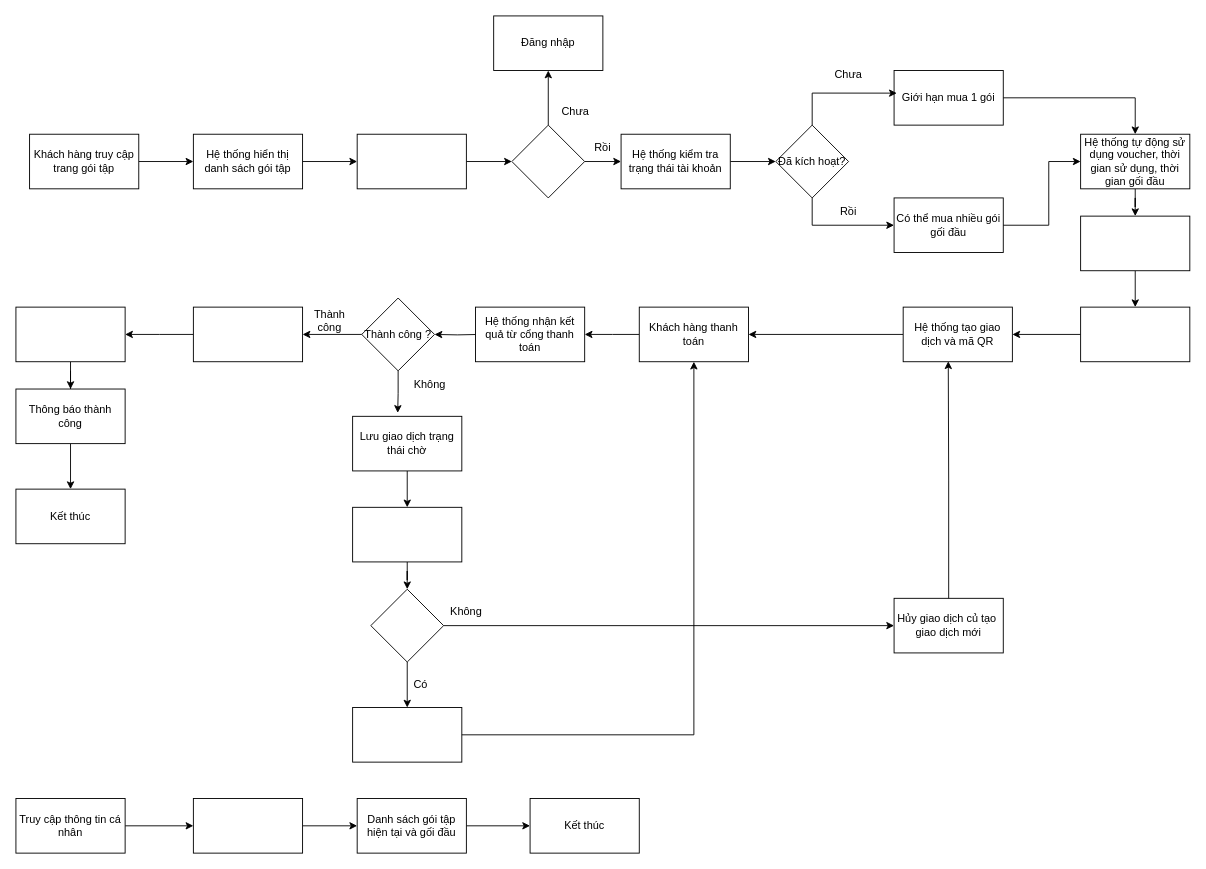
The diagram is 1206 pixels wide and 869 high, and some of its shapes have lost their labels. Here are the shapes that lost their labels. From the top down, the centre of each, then its label:
(411,161): Chọn gói tập cần mua
(548,161): Đã đăng nhập?
(1135,243): Chọn chi nhánh đăng ký
(70,334): Ghi auditlog
(247,334): Cập nhật trạng thái giao dịch và gói tập
(1135,334): Xác nhận thanh toán
(407,534): Khách hàng quay lại
(407,625): Tiếp tục thanh toán ?
(407,734): Tiếp tục thanh toán
(247,825): Gói tập hiện tại
